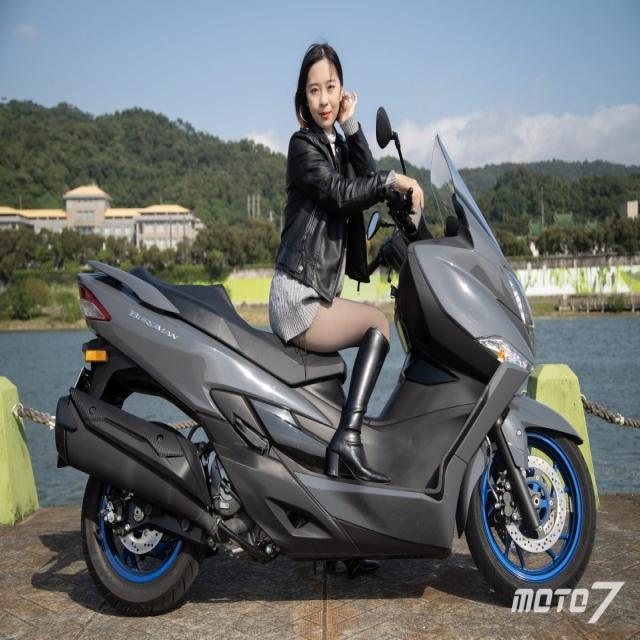Bike: (54, 108, 597, 617)
